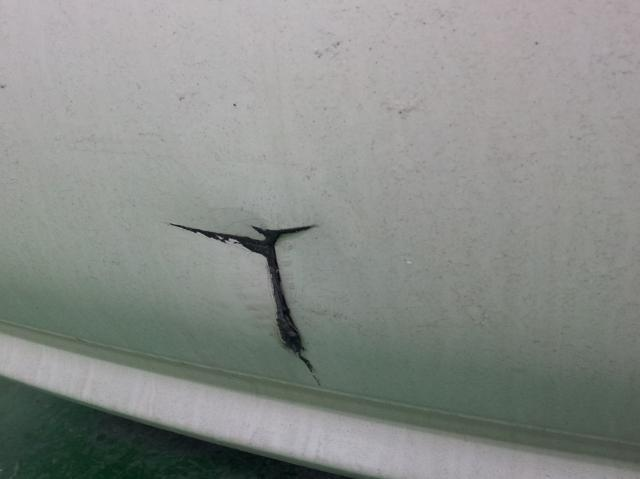Door: (151, 190, 380, 393)
